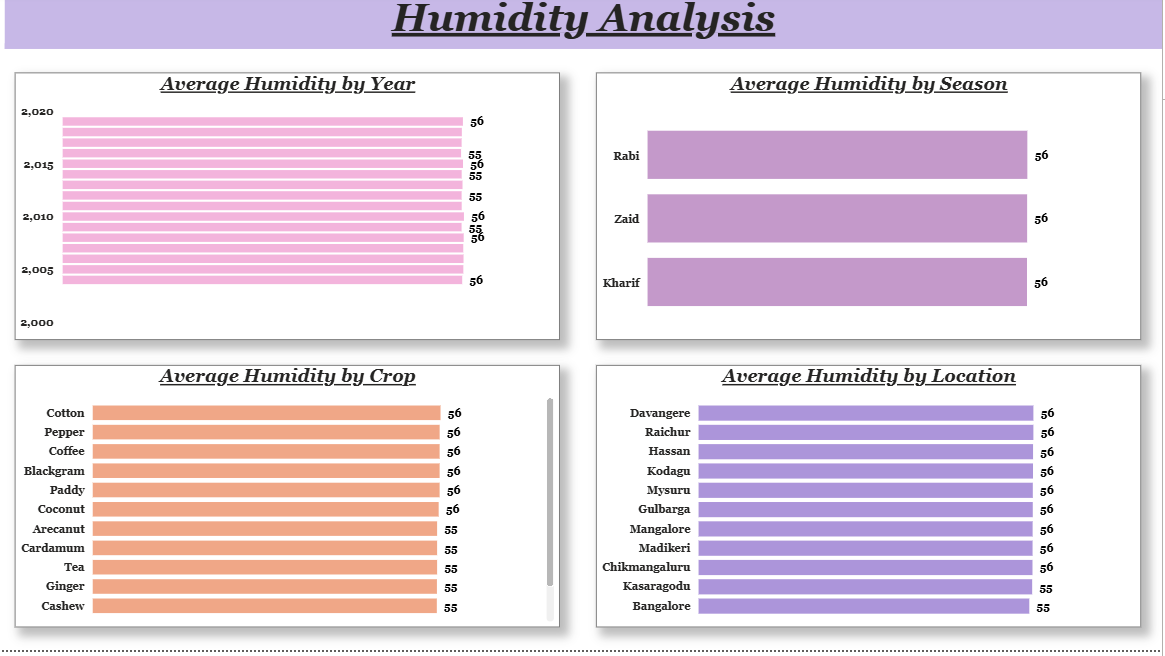

The dashboard page shown, as its layout file describes it:
{"tool":"powerbi","page":{"name":"Humidity Analysis","canvas":[1280,720],"ordinal":2},"visuals":[{"type":"shape","title":"Humidity Analysis","box":[9.6,0,1270.7,59],"z":0},{"type":"barChart","title":"Average Humidity by Year","fields":{"Y":["Avg(AGRICULTURE.HUMIDITY)"],"Category":["AGRICULTURE.YEAR"]},"box":[20.6,85.1,598.3,293.7],"z":1000},{"type":"barChart","title":"Average Humidity by Season","fields":{"Category":["AGRICULTURE.SEASON"],"Y":["Avg(AGRICULTURE.HUMIDITY)"]},"box":[658.7,85.1,598.3,293.7],"z":2000},{"type":"barChart","title":"Average Humidity by Crop","fields":{"Category":["AGRICULTURE.CROPS"],"Y":["Avg(AGRICULTURE.HUMIDITY)"]},"box":[20.6,406.2,598.3,288.2],"z":3000},{"type":"barChart","title":"Average Humidity by Location","fields":{"Category":["AGRICULTURE.LOCATION"],"Y":["Avg(AGRICULTURE.HUMIDITY)"]},"box":[658.7,406.2,598.3,288.2],"z":4000}]}

Visuals, with their boxes in screenshot pixels (x1, y1, x2, y2), scaled from the page's 1280x720 canvas onto the 1165x656 screenshot:
"Humidity Analysis" shape: select_region(9, 0, 1164, 54)
"Average Humidity by Year" barChart: select_region(19, 78, 563, 345)
"Average Humidity by Season" barChart: select_region(600, 78, 1144, 345)
"Average Humidity by Crop" barChart: select_region(19, 370, 563, 633)
"Average Humidity by Location" barChart: select_region(600, 370, 1144, 633)
